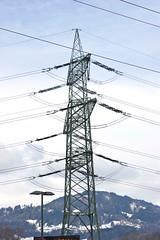power_tower: (31, 28, 130, 238)
